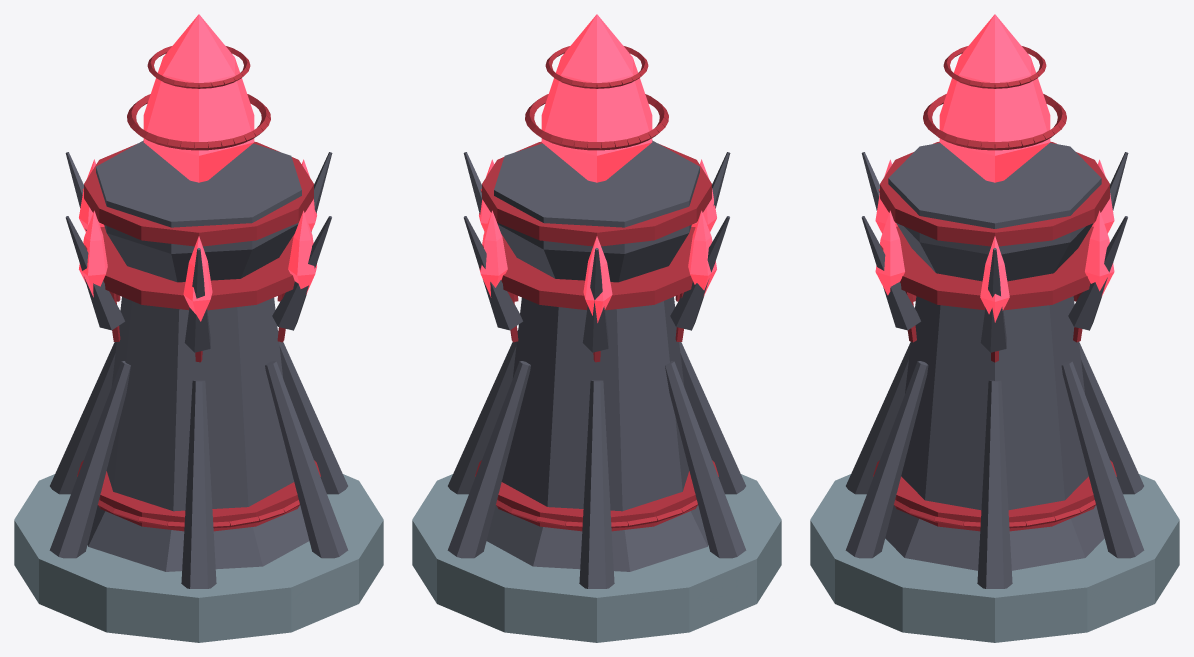
File: tenebra_tower_architecture_review.glb
The picture shows the model from 3 angles, left to right: view 1: azimuth 30°, elevation 25°; view 2: azimuth 150°, elevation 25°; view 3: azimuth 270°, elevation 25°; orthographic projection.
Parts seen in each view (by area): view 1: tenebra_tower; view 2: tenebra_tower; view 3: tenebra_tower.
Part boxes in pixels (x1,y1,x2,y2): tenebra_tower: (14,14,383,642); tenebra_tower: (412,14,781,642); tenebra_tower: (810,14,1179,642).
Size of the model in its own units: 5.2 by 8.55 by 5.2.
